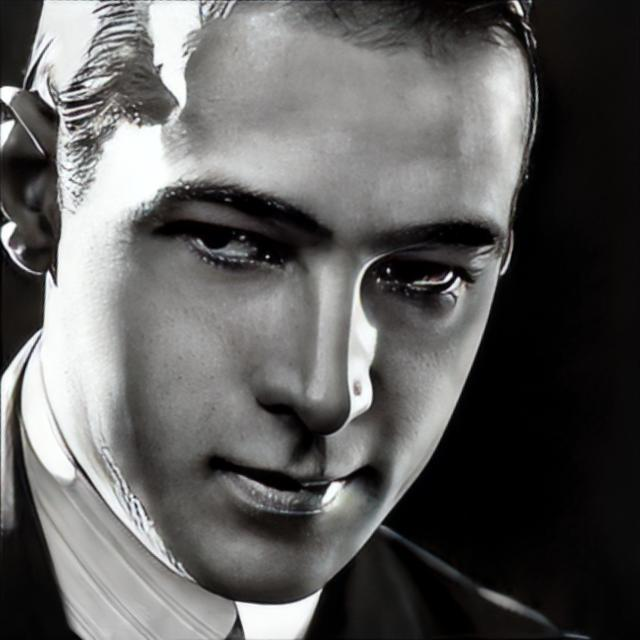content: (59, 0, 532, 604)
